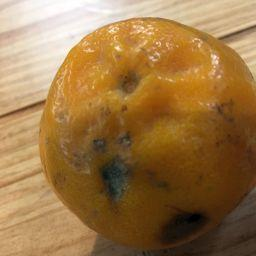Unripe: (38, 22, 255, 251)
